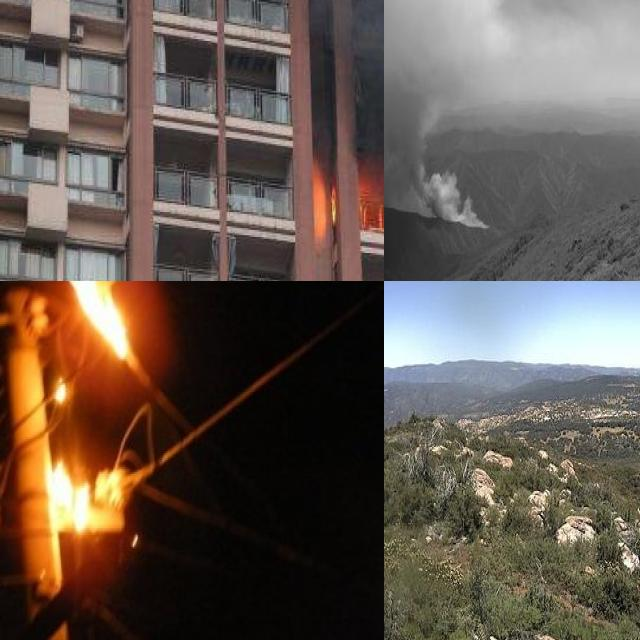fire: (30, 460, 133, 535), (310, 146, 384, 244), (66, 281, 142, 365)
smoke: (384, 0, 491, 230), (288, 0, 384, 208)
